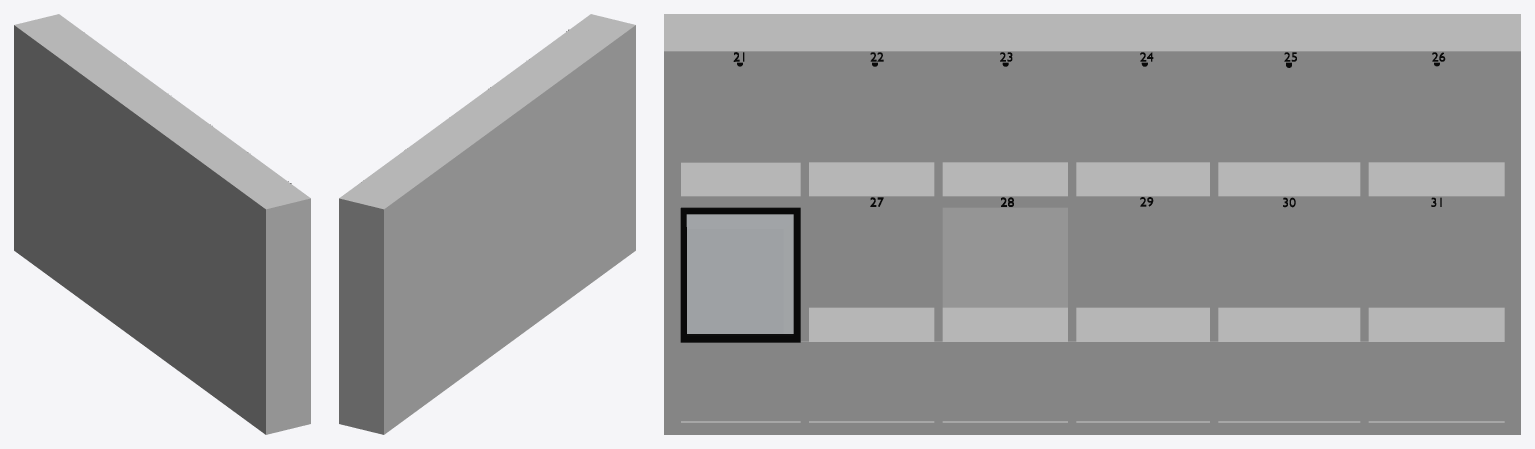
File: grotekast kopie 2.fbx
3 views of the same model, side by side, from view 1: azimuth 30°, elevation 25°; view 2: azimuth 150°, elevation 25°; view 3: azimuth 270°, elevation 25° (orthographic). The views are drawn at different scales.
Visible parts, largest first — view 1: Cube; view 2: Cube; view 3: Cube.
Part boxes in pixels (x1=…): Cube: x1=14, y1=14, x2=310, y2=434; Cube: x1=339, y1=14, x2=635, y2=434; Cube: x1=664, y1=14, x2=1520, y2=434.
Bounding box in the file's own units: 72.5 × 338 × 683.
